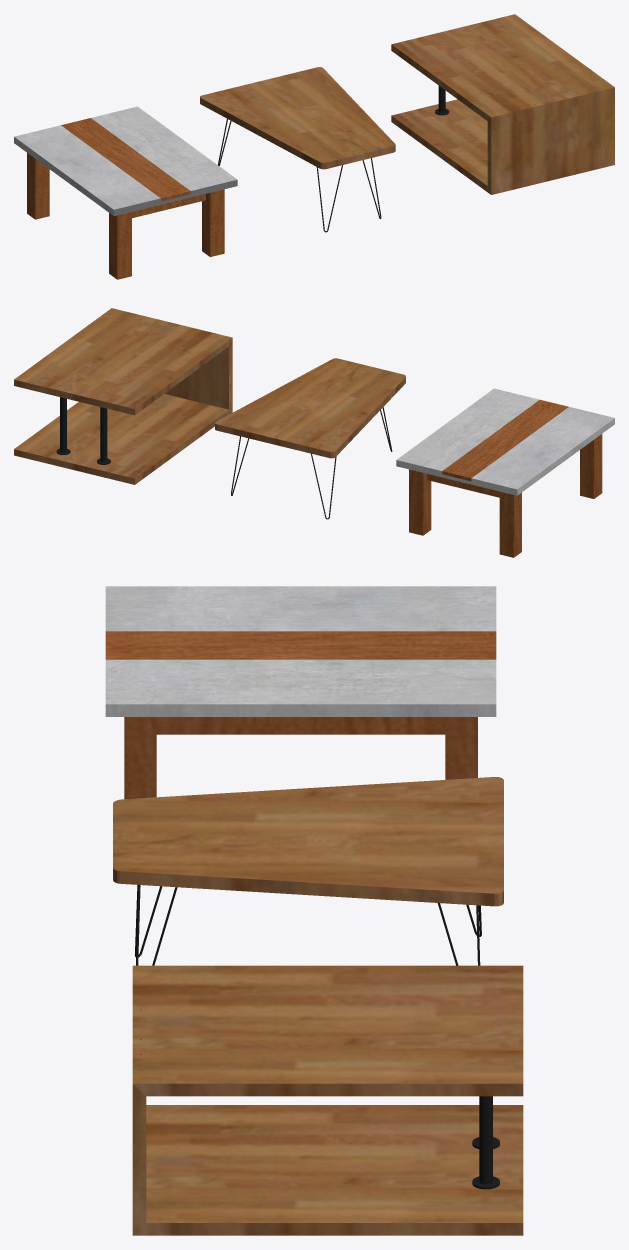
Rendered from Coffee Table Options.gltf.
The picture shows the model from 3 angles, top to bottom: view 1: azimuth 30°, elevation 25°; view 2: azimuth 150°, elevation 25°; view 3: azimuth 270°, elevation 25°; orthographic projection. The views are drawn at different scales.
Parts seen in each view (by area): view 1: Coffee Table Modern with black iron pipe, Coffee table concrete wood inlay, Wood top coffee table with hairpin legs; view 2: Coffee Table Modern with black iron pipe, Coffee table concrete wood inlay, Wood top coffee table with hairpin legs; view 3: Coffee Table Modern with black iron pipe, Coffee table concrete wood inlay, Wood top coffee table with hairpin legs.
Part boxes in pixels (<box>): Coffee Table Modern with black iron pipe: <box>391,14,614,194</box>; Coffee table concrete wood inlay: <box>14,106,237,279</box>; Wood top coffee table with hairpin legs: <box>200,67,395,169</box>; Coffee Table Modern with black iron pipe: <box>14,308,232,484</box>; Coffee table concrete wood inlay: <box>396,388,614,557</box>; Wood top coffee table with hairpin legs: <box>215,358,405,458</box>; Coffee Table Modern with black iron pipe: <box>132,965,523,1235</box>; Coffee table concrete wood inlay: <box>105,586,496,799</box>; Wood top coffee table with hairpin legs: <box>113,777,503,906</box>.
Bounding box in the file's own units: 3.13 × 0.4953 × 1.14.
7 materials, 5 textured.
